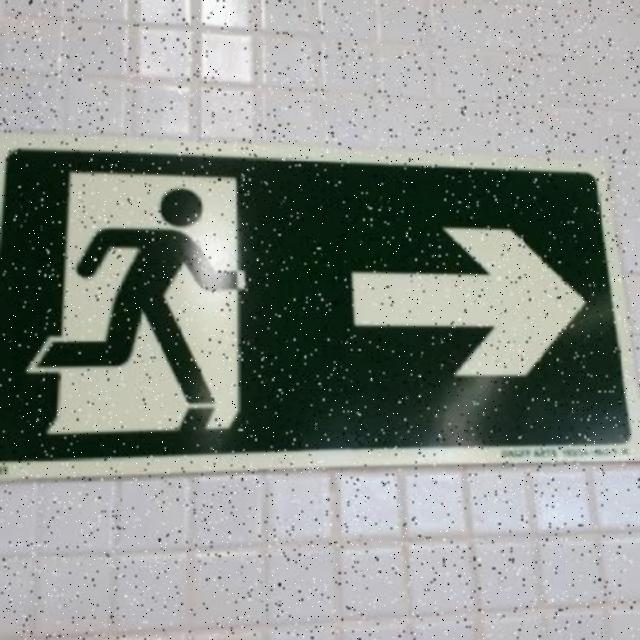emergency_exit: (1, 143, 638, 479)
